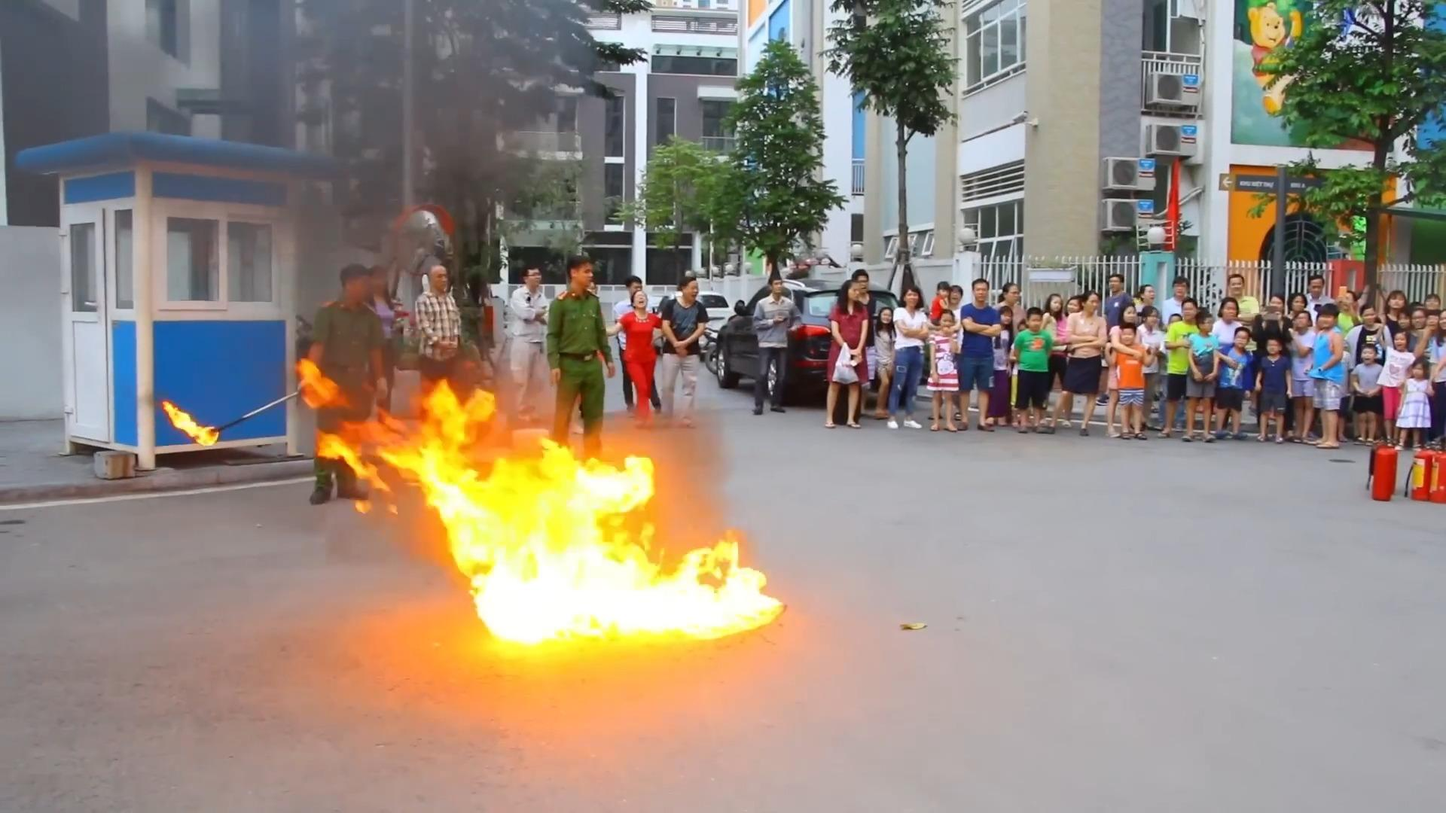FireExtinguisher: (1360, 445, 1400, 503), (1412, 441, 1446, 503)
not: (298, 356, 801, 663), (607, 288, 673, 430), (819, 271, 877, 407), (1145, 125, 1196, 265), (821, 277, 872, 406), (1228, 158, 1280, 275), (149, 386, 235, 454), (1247, 10, 1294, 91), (384, 198, 457, 250), (1113, 317, 1158, 391), (1379, 375, 1414, 421), (929, 273, 954, 324)
